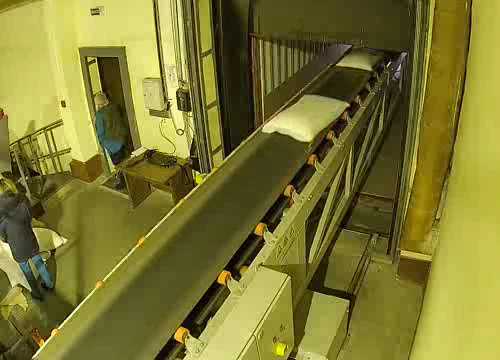bag: (260, 91, 353, 147), (335, 46, 387, 74)
